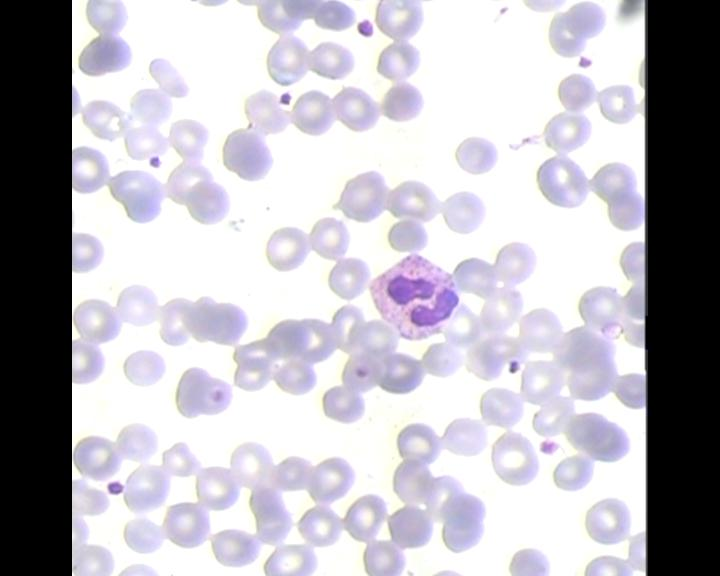neut: (366, 249, 464, 338)
